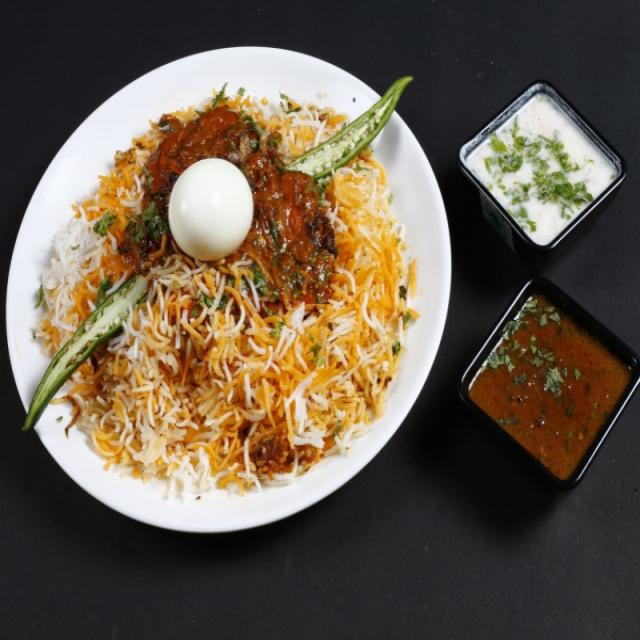Biryani: (31, 105, 402, 502)
